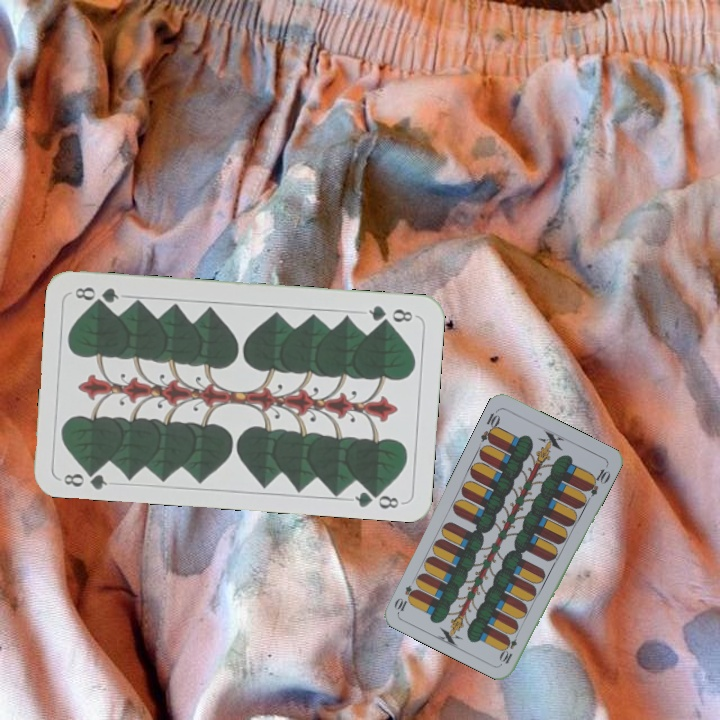E10: (477, 406, 503, 446), (497, 627, 522, 666)
G8: (59, 464, 110, 492), (365, 301, 419, 326)
